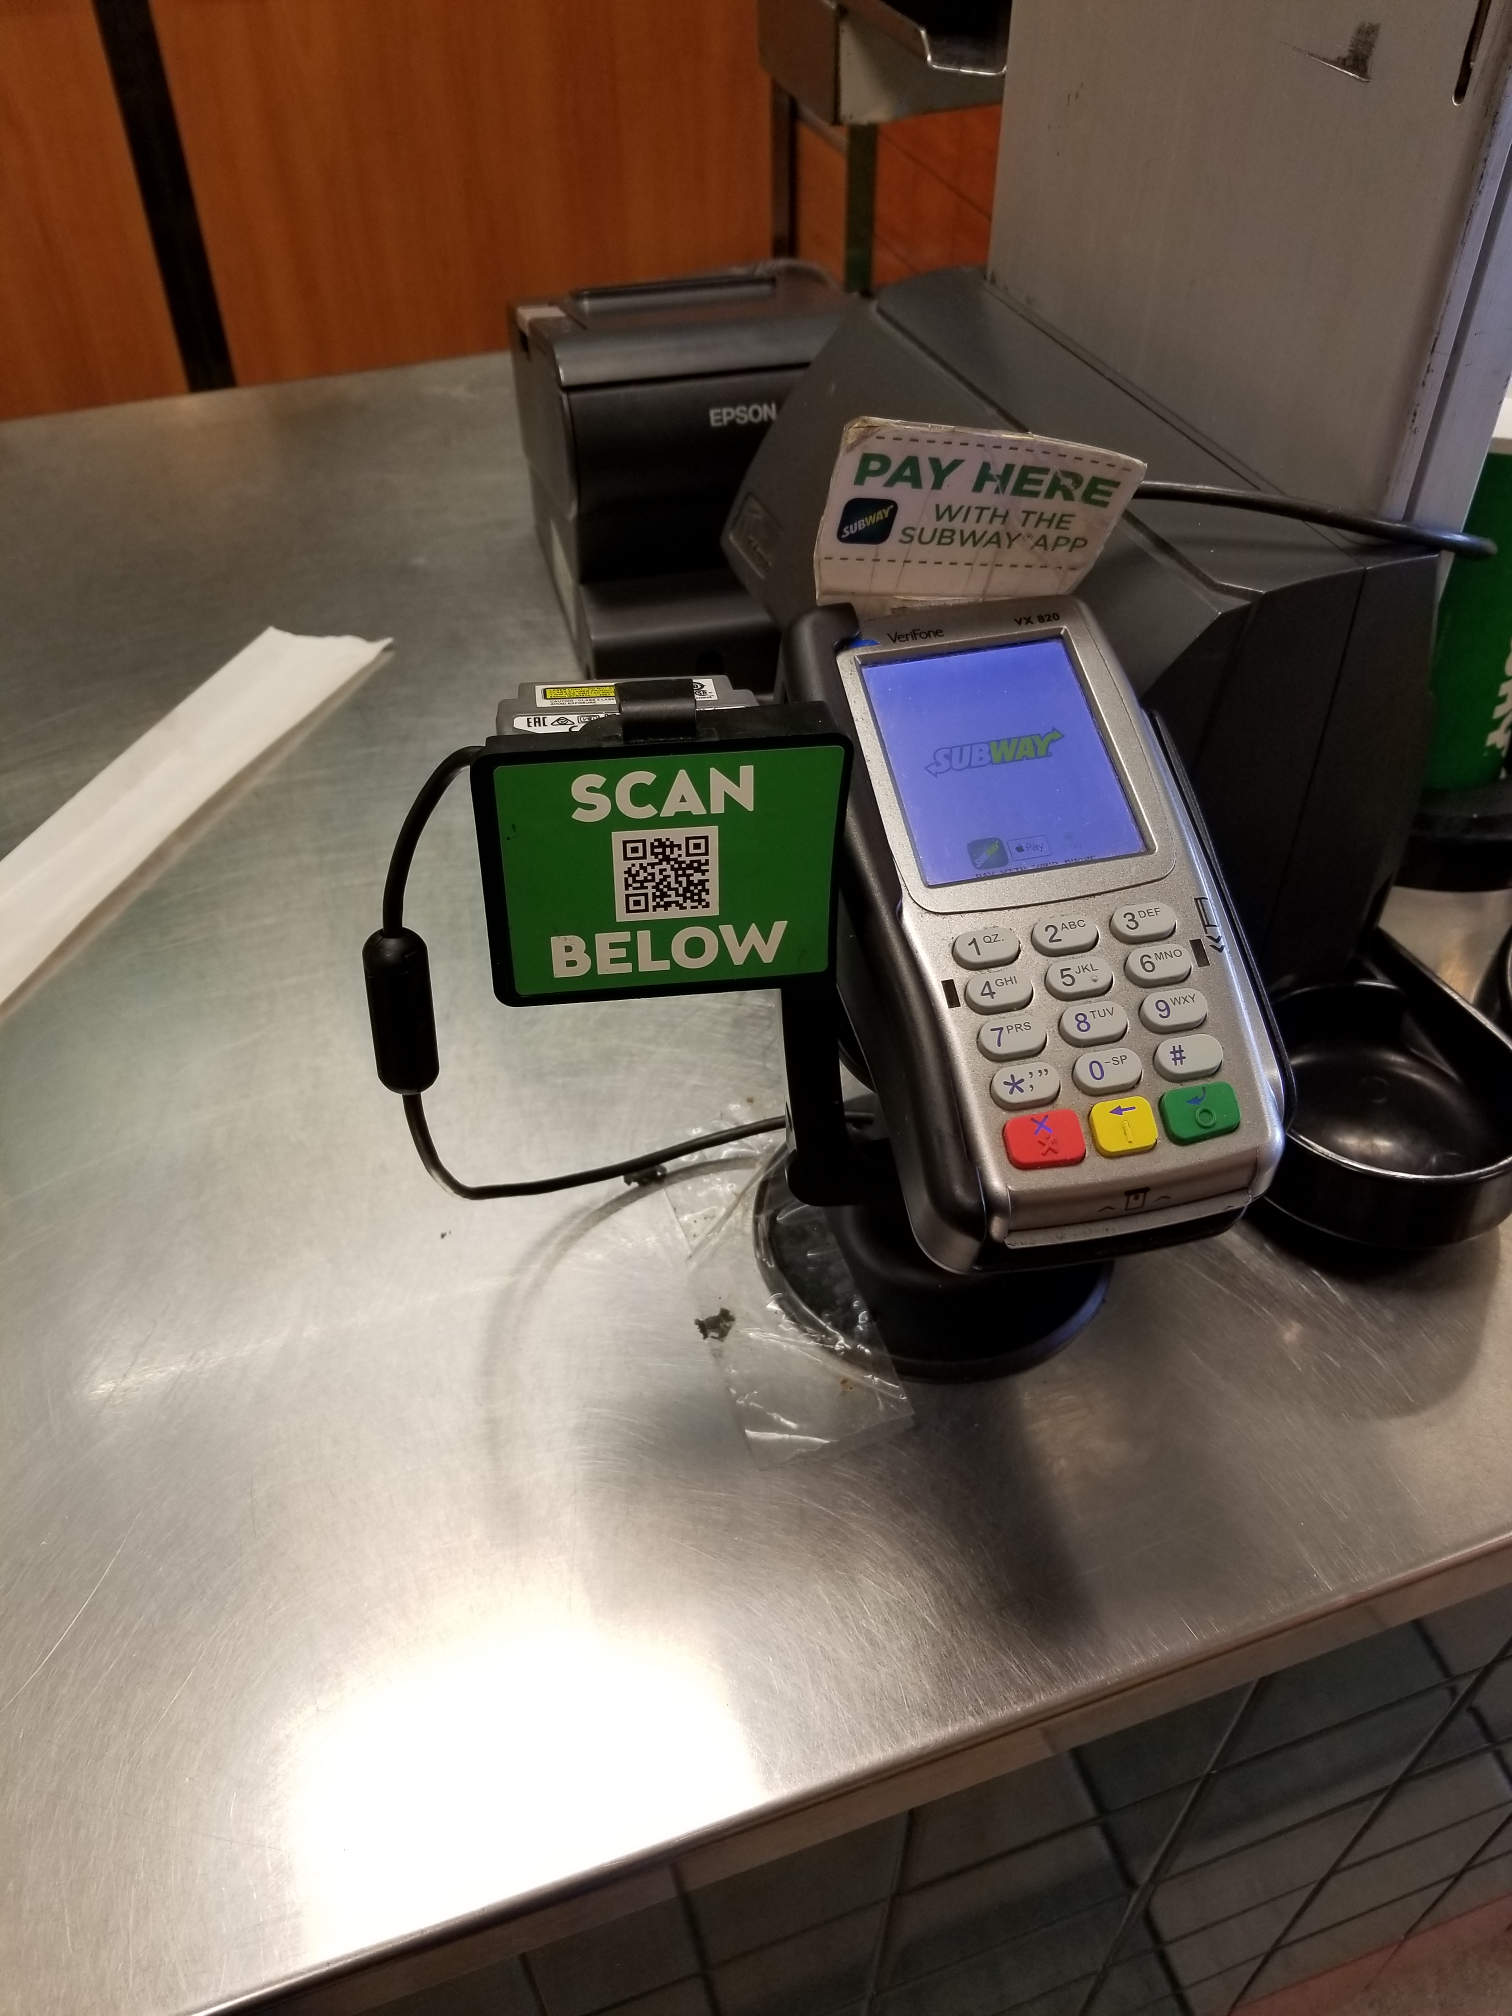QR_CODE: (599, 816, 734, 930)
